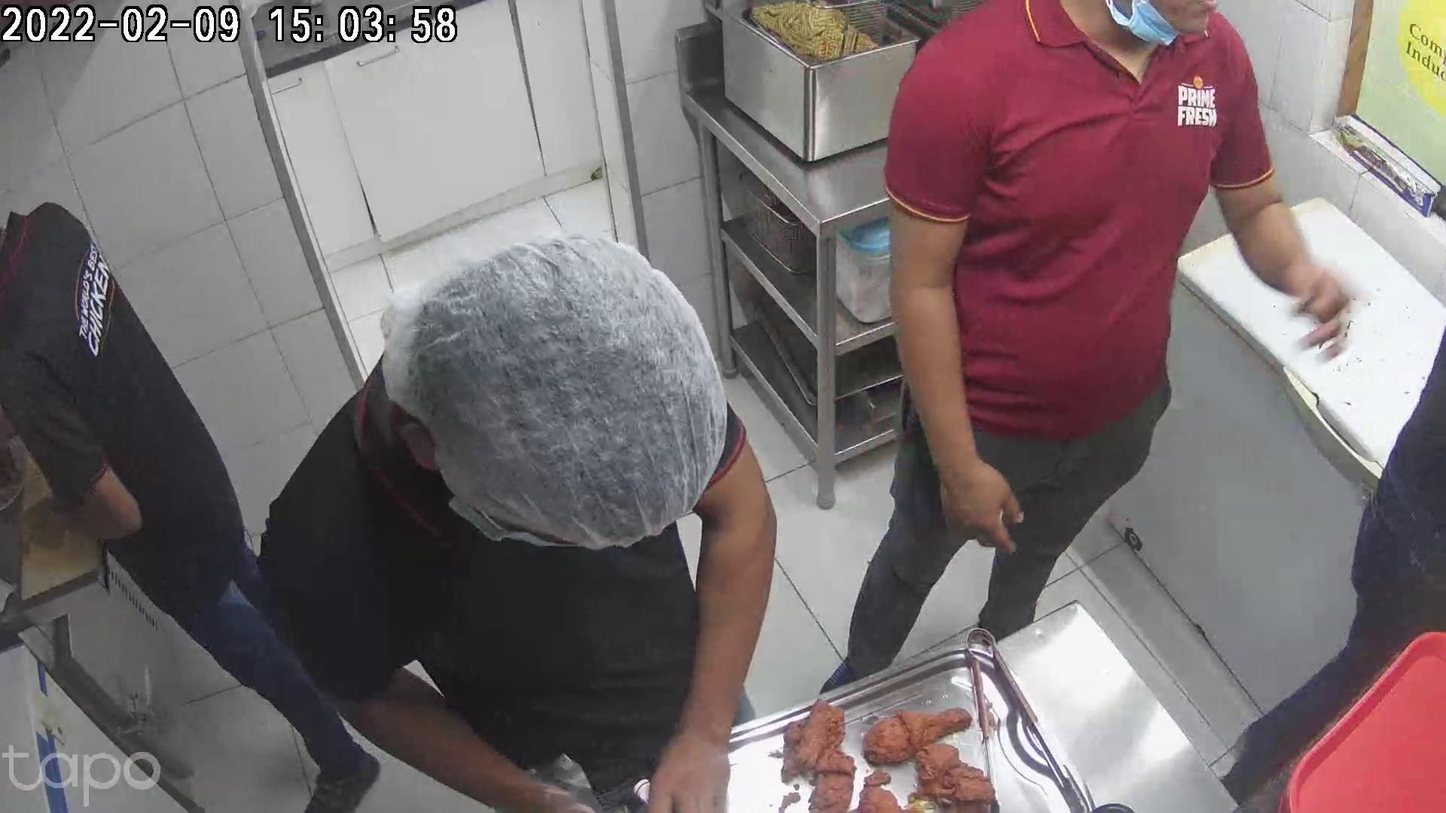no_gloves: (933, 435, 1028, 550)
